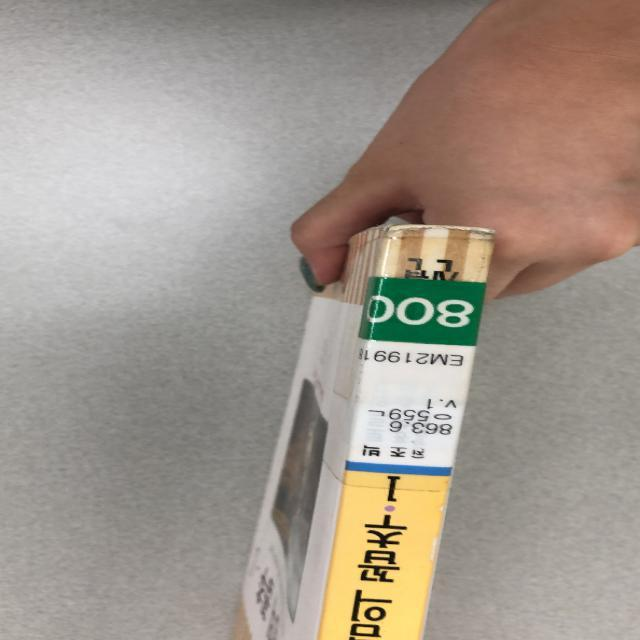Wornout: (374, 220, 506, 239), (426, 524, 447, 566), (434, 502, 455, 515)
